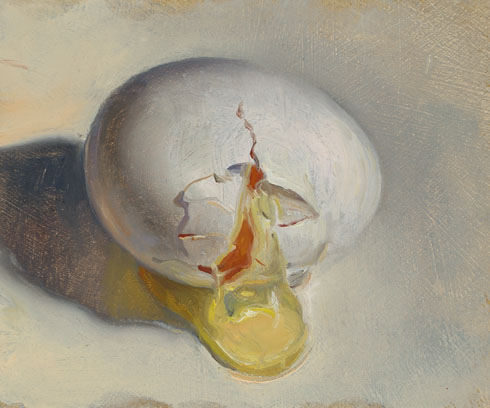egg: (80, 55, 386, 294)
